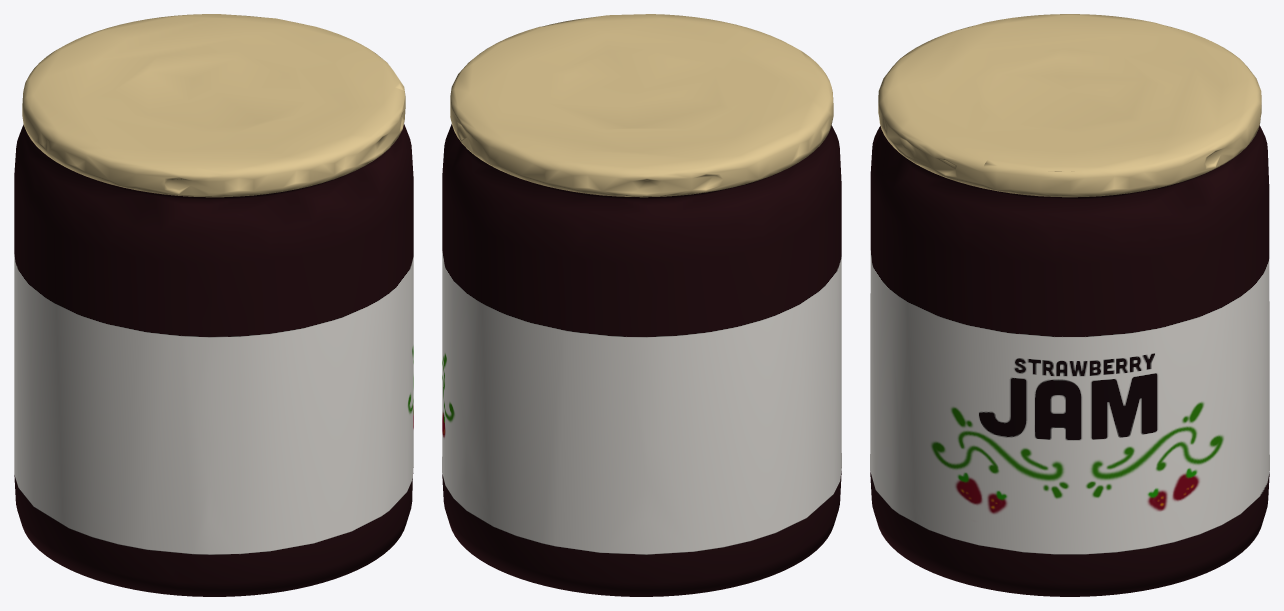
File: 딸기잼 2.fbx
3 renders of one model, left to right at view 1: azimuth 30°, elevation 25°; view 2: azimuth 150°, elevation 25°; view 3: azimuth 270°, elevation 25°, orthographic.
Parts seen in each view (by area): view 1: Cylinder001; view 2: Cylinder001; view 3: Cylinder001.
Boxes of the visible parts, x1,y1,x2,y2 form: Cylinder001: [14, 14, 413, 596]; Cylinder001: [442, 14, 841, 596]; Cylinder001: [870, 14, 1269, 596].
Bounding box in the file's own units: 39.75 × 47.67 × 39.88.
Materials: 1 (1 with a texture image).
